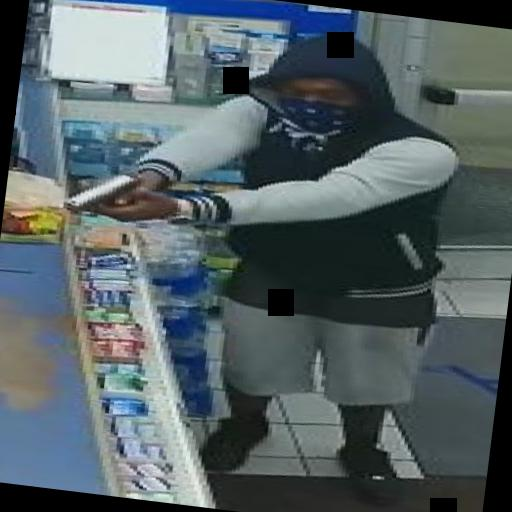Handgun: (54, 164, 154, 222)
